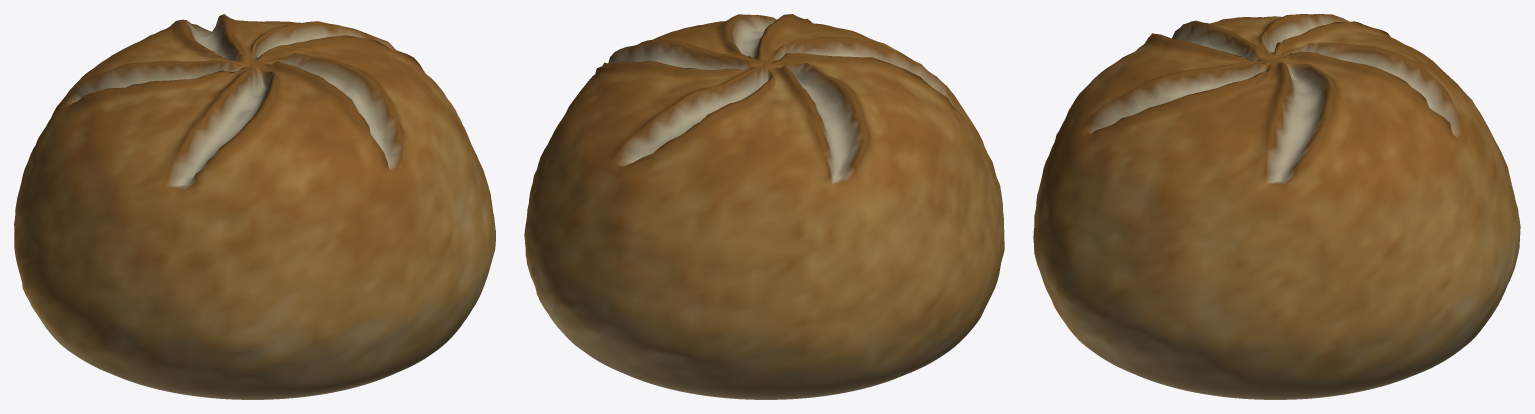
The model's file is sternweck.glb.
3 views of the same model, side by side, from view 1: azimuth 30°, elevation 25°; view 2: azimuth 150°, elevation 25°; view 3: azimuth 270°, elevation 25° (orthographic).
Parts seen in each view (by area): view 1: sternweck; view 2: sternweck; view 3: sternweck.
Part boxes in pixels (x1,y1,x2,y2): sternweck: (14,14,495,399); sternweck: (524,14,1004,399); sternweck: (1033,14,1520,399).
Bounding box in the file's own units: 0.1 × 0.06 × 0.1.
